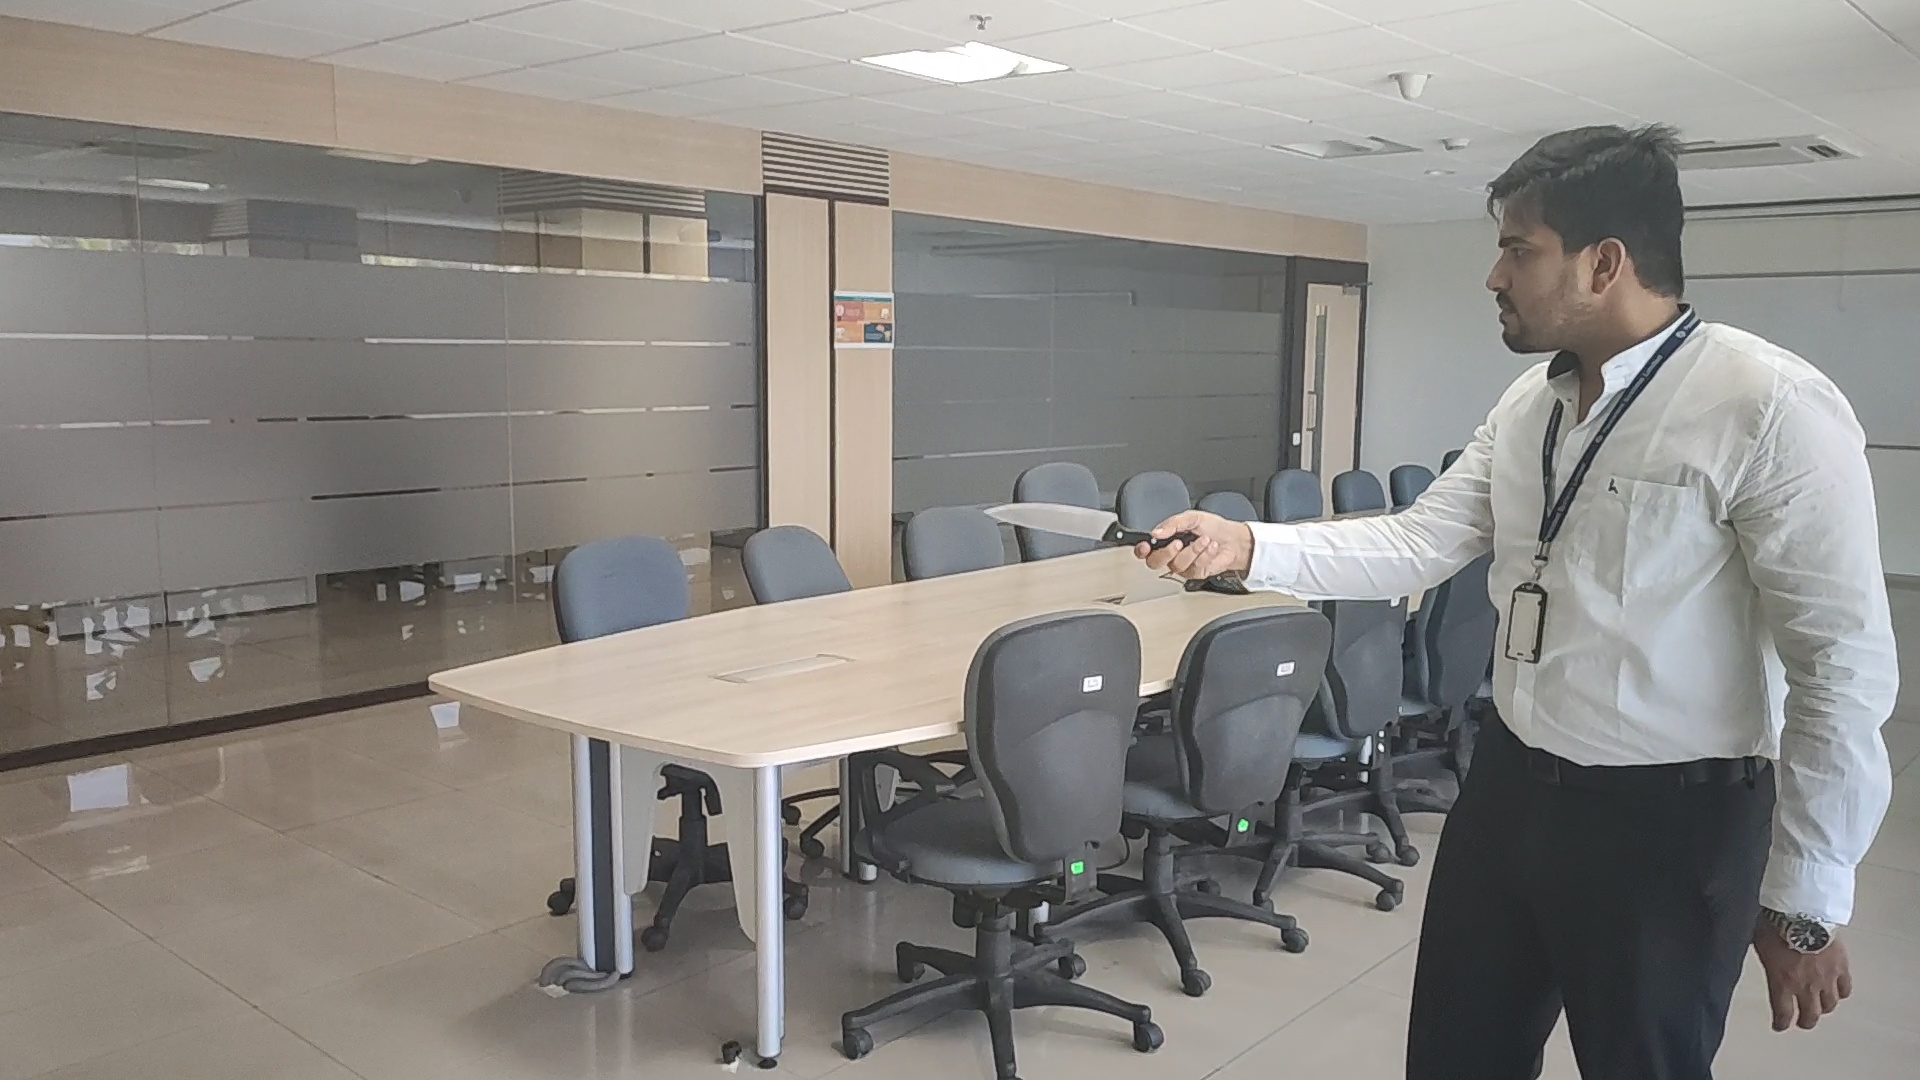knife: (986, 501, 1158, 545)
